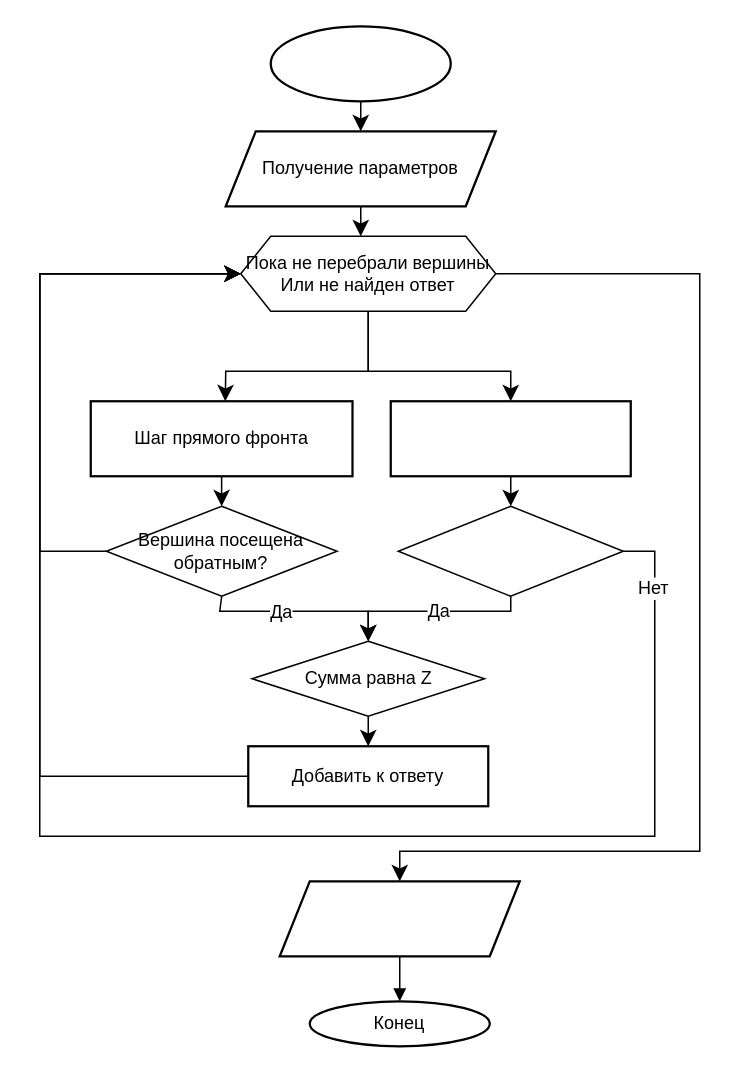
Image size: 741x1074. Some labels were removed from this diagram. Each missing label, with the box of its shape:
Вершина посещена Прямым?: (397, 505, 623, 596)
Начало: (269, 24, 451, 102)
Отправка результатов: (278, 879, 520, 957)
Шаг обратного фронта: (389, 399, 631, 477)
